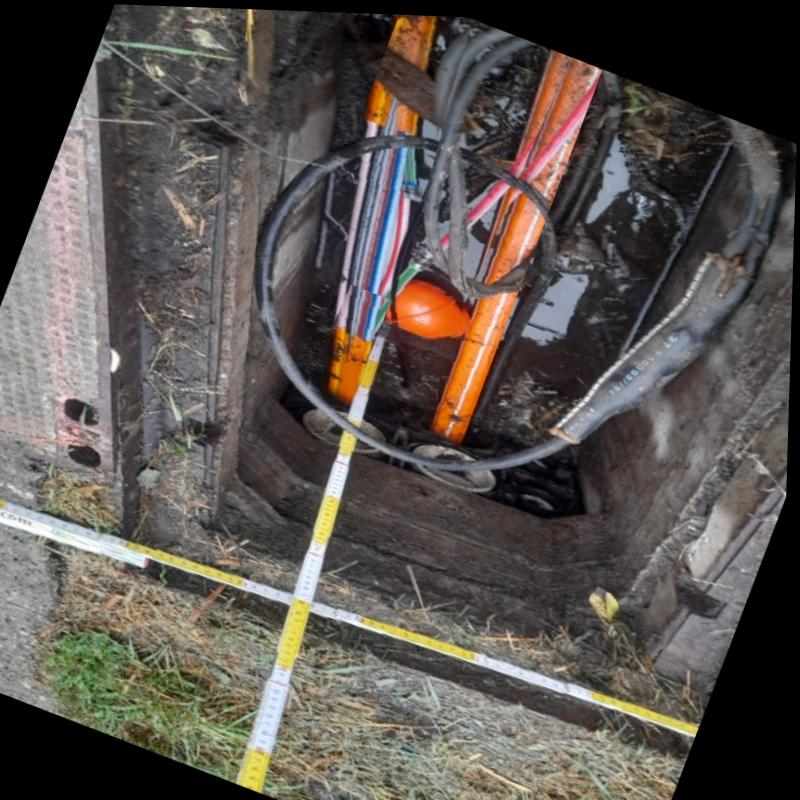Kugelmarker: (387, 278, 465, 334)
Orang-Speednetrohrchen: (434, 52, 603, 440), (357, 12, 436, 202), (327, 281, 391, 404)
